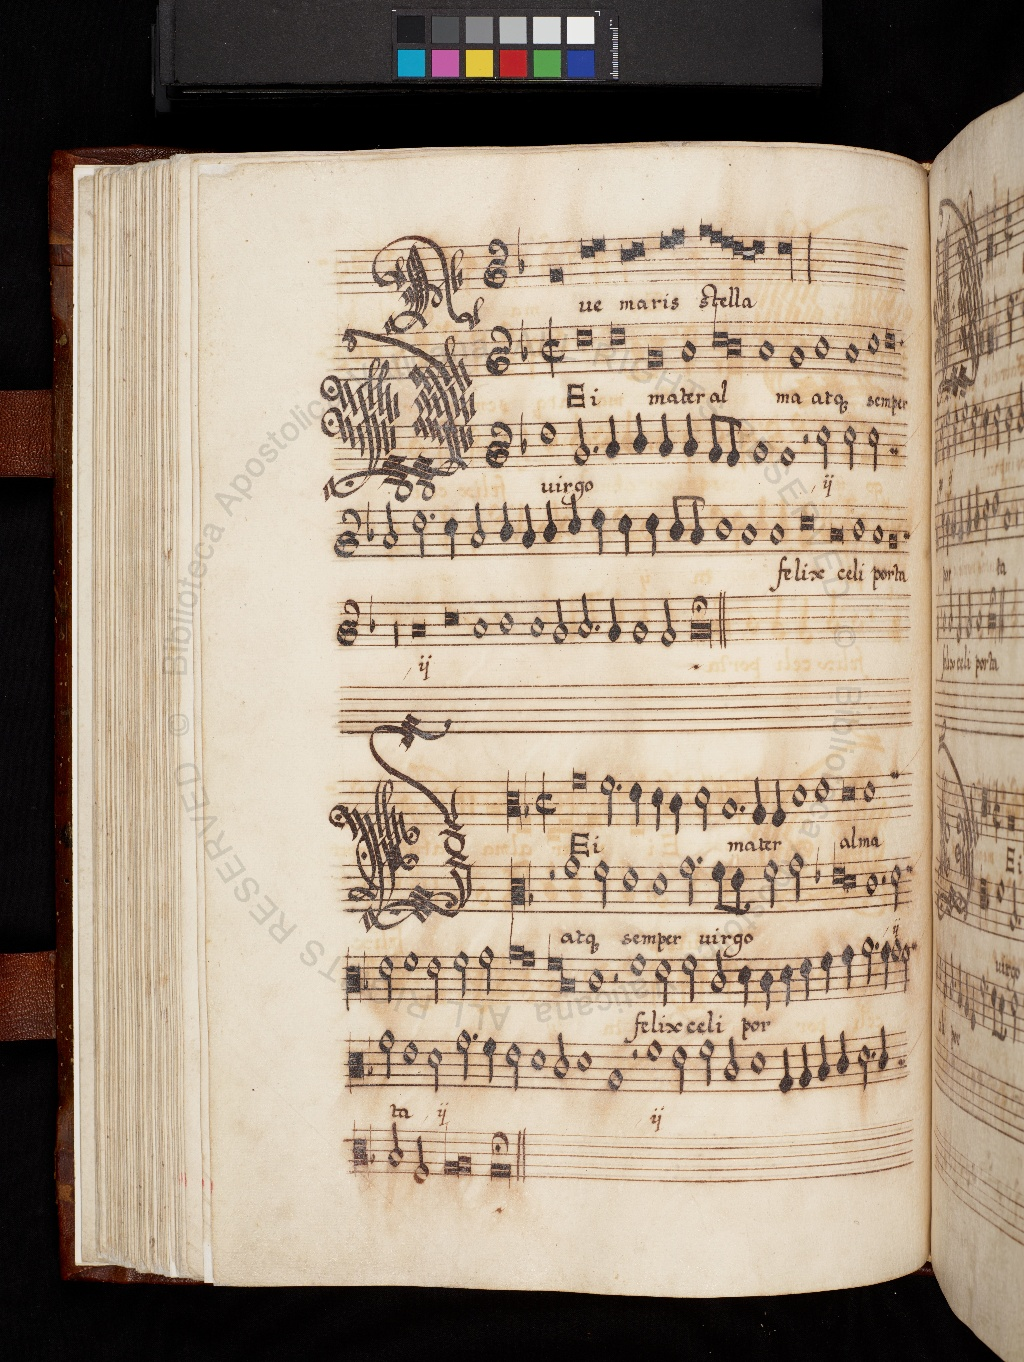c clef_7: (506, 855, 529, 927)
custos_5: (899, 850, 923, 883)
flat_5: (808, 842, 824, 888)
flat_8: (523, 852, 538, 909)
fusa_4: (709, 850, 731, 922)
fusa_5: (728, 854, 751, 924)
l1semibreve_5: (827, 839, 847, 891)
l2semibreve_6: (841, 870, 858, 894)
minim rest: (544, 854, 558, 921), (878, 852, 888, 914)
minim_3: (675, 849, 698, 914), (786, 846, 807, 908)
minim_4: (591, 853, 614, 916), (760, 854, 782, 916)
minim_6: (886, 857, 904, 916)
point: (689, 849, 707, 872)
semibreve_3: (559, 853, 585, 890)
semibreve_5: (617, 859, 643, 902)
semibreve_6: (648, 863, 673, 906)
semibreve_7: (862, 866, 881, 903)
